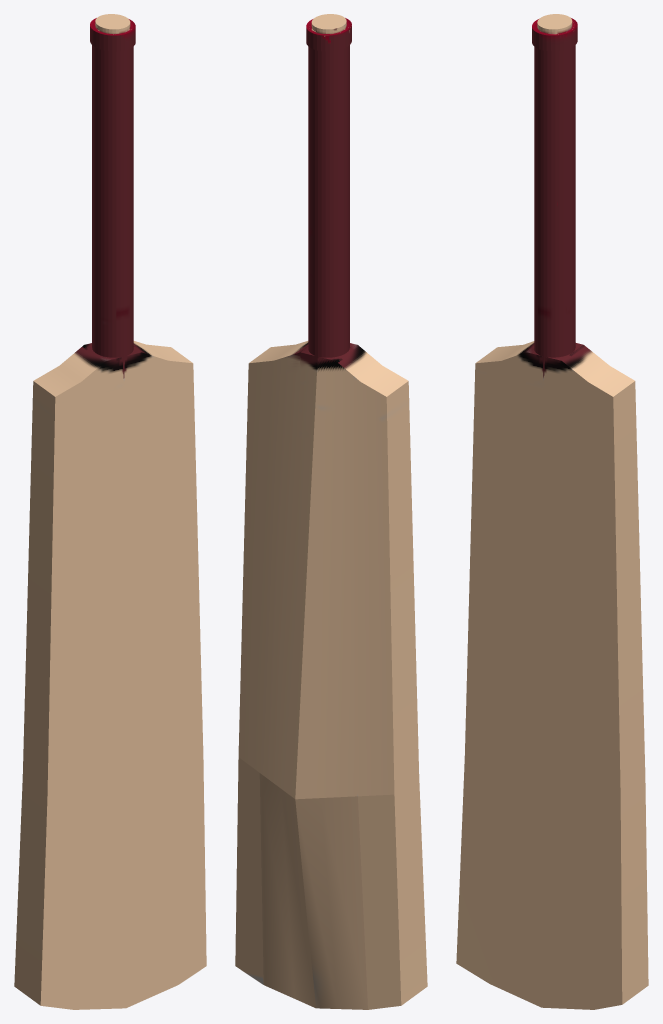
Rendered from cricket_bat_india.glb.
3 views of the same model, side by side, from view 1: azimuth 30°, elevation 25°; view 2: azimuth 150°, elevation 25°; view 3: azimuth 330°, elevation 25° (orthographic).
Visible parts, largest first — view 1: Cube.001; view 2: Cube.001; view 3: Cube.001.
Part boxes in pixels (x1,y1,x2,y2): Cube.001: (14,14,206,1009); Cube.001: (235,14,427,1009); Cube.001: (456,14,648,1009).
Bounding box in the file's own units: 0.5595 × 3.15 × 0.2745.
Materials: 1 (1 with a texture image).
